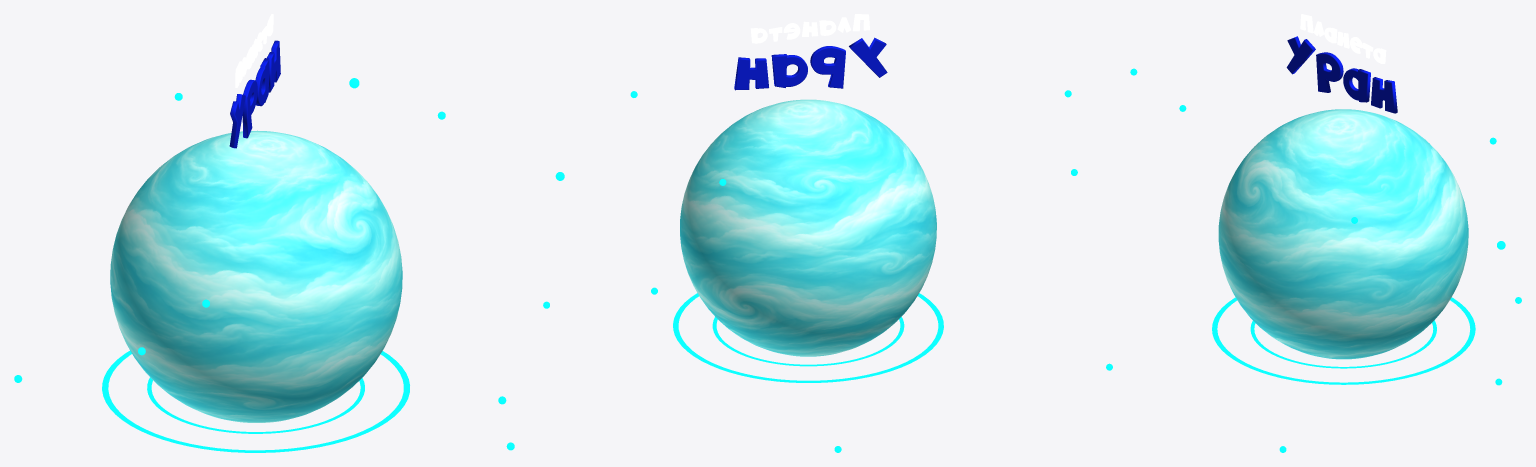
File: uranus.glb
The picture shows the model from 3 angles, left to right: view 1: azimuth 30°, elevation 25°; view 2: azimuth 150°, elevation 25°; view 3: azimuth 270°, elevation 25°; orthographic projection. The views are drawn at different scales.
Parts seen in each view (by area): view 1: Sphere.003, Text.002, Circle.001, Circle.002, Text; view 2: Sphere.003, Text.002, Circle.001, Text, Circle.002; view 3: Sphere.003, Text.002, Circle.001, Text, Circle.002.
Part boxes in pixels (x1,y1,x2,y2): Sphere.003: (110,130,402,422); Text.002: (229,40,280,148); Circle.001: (102,350,409,452); Circle.002: (147,377,364,433); Text: (235,14,273,87); Sphere.003: (680,99,936,356); Text.002: (734,37,887,90); Circle.001: (673,293,943,382); Text: (750,14,869,43); Circle.002: (712,317,904,366); Sphere.003: (1218,109,1468,359); Text.002: (1286,36,1397,113); Circle.001: (1212,297,1475,384); Text: (1300,14,1386,63); Circle.002: (1250,320,1436,368).
Size of the model in its own units: 3.5 by 3.07 by 3.46.
Materials: 13 (1 with a texture image).
